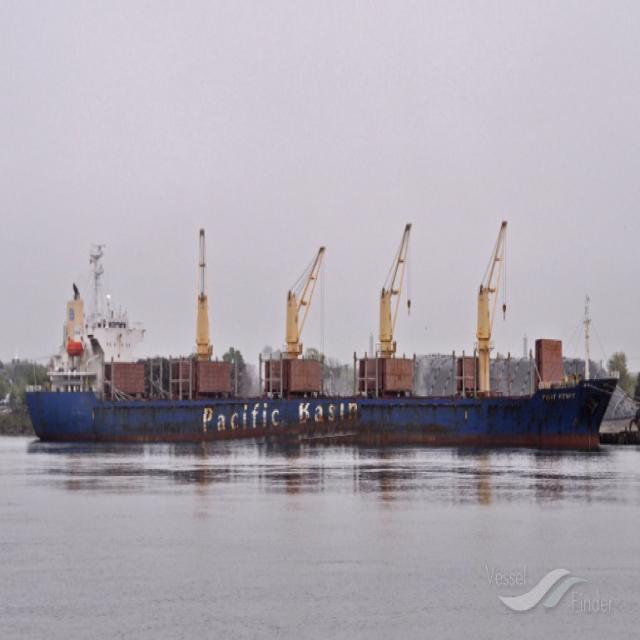OCR: (196, 403, 362, 449)
